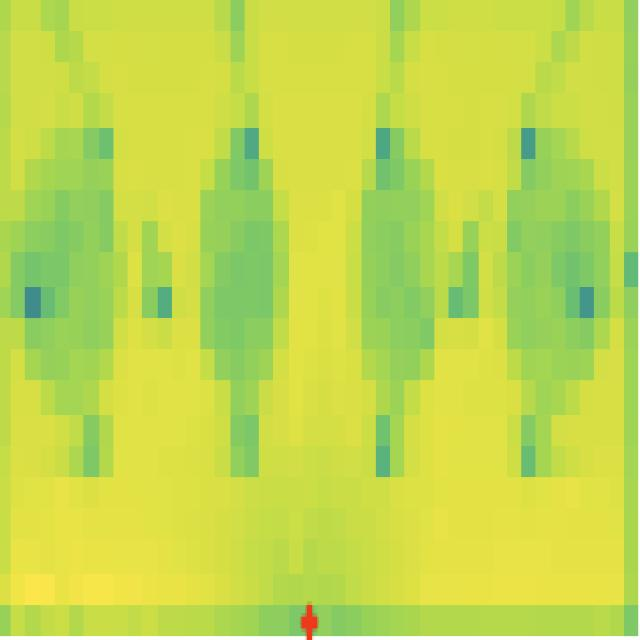Concrete: (36, 125, 126, 412)
Glass: (509, 163, 605, 412)
Metal: (201, 155, 286, 417)
Wood: (359, 154, 435, 391)
